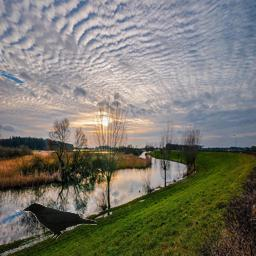Crow: (20, 201, 97, 239)
